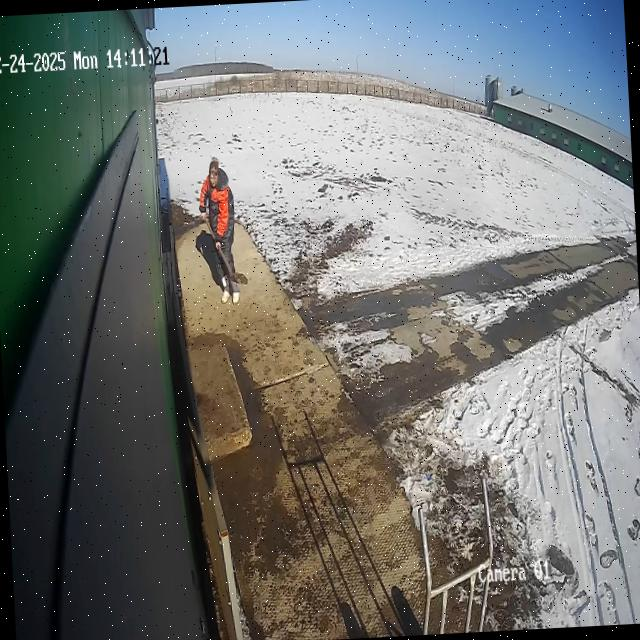Red uniform: (194, 155, 242, 308)
